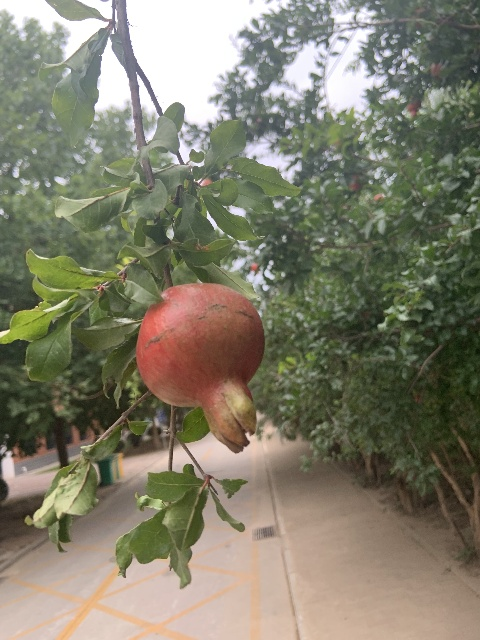ripe: (135, 282, 265, 453)
